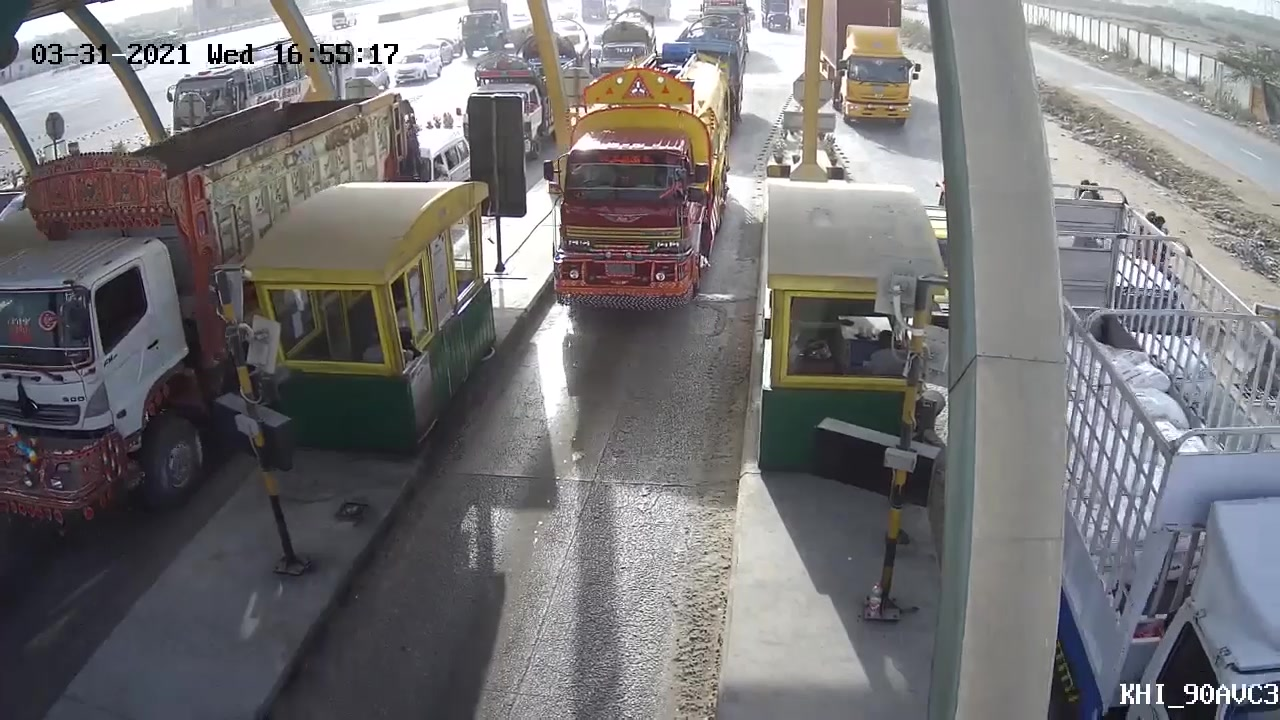F6: (545, 51, 737, 325)
